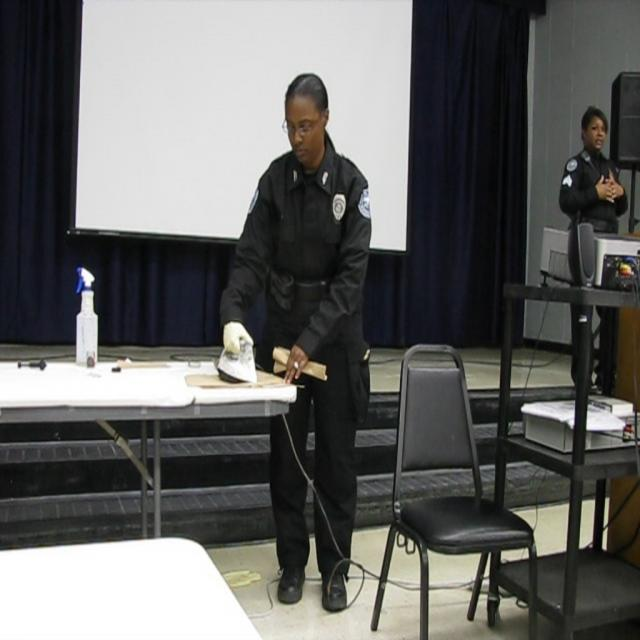chair: (369, 343, 539, 640)
desk: (0, 539, 256, 639)
person: (219, 73, 373, 626)
tv: (610, 71, 640, 167)
